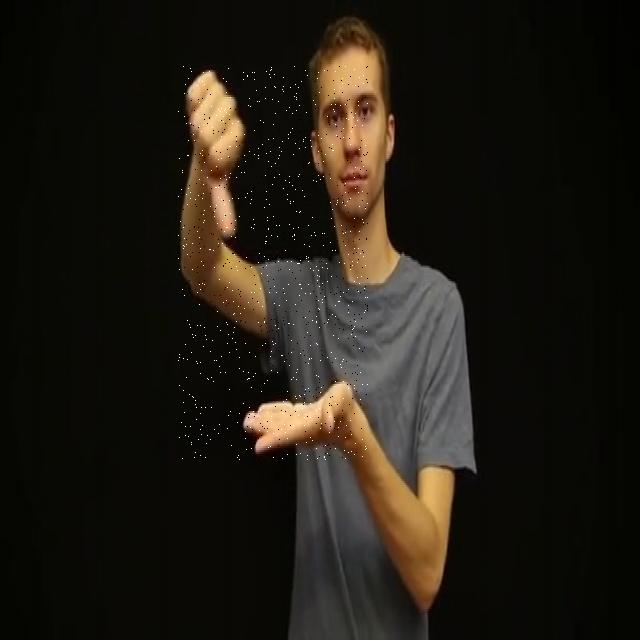sauce: (178, 66, 368, 460)
